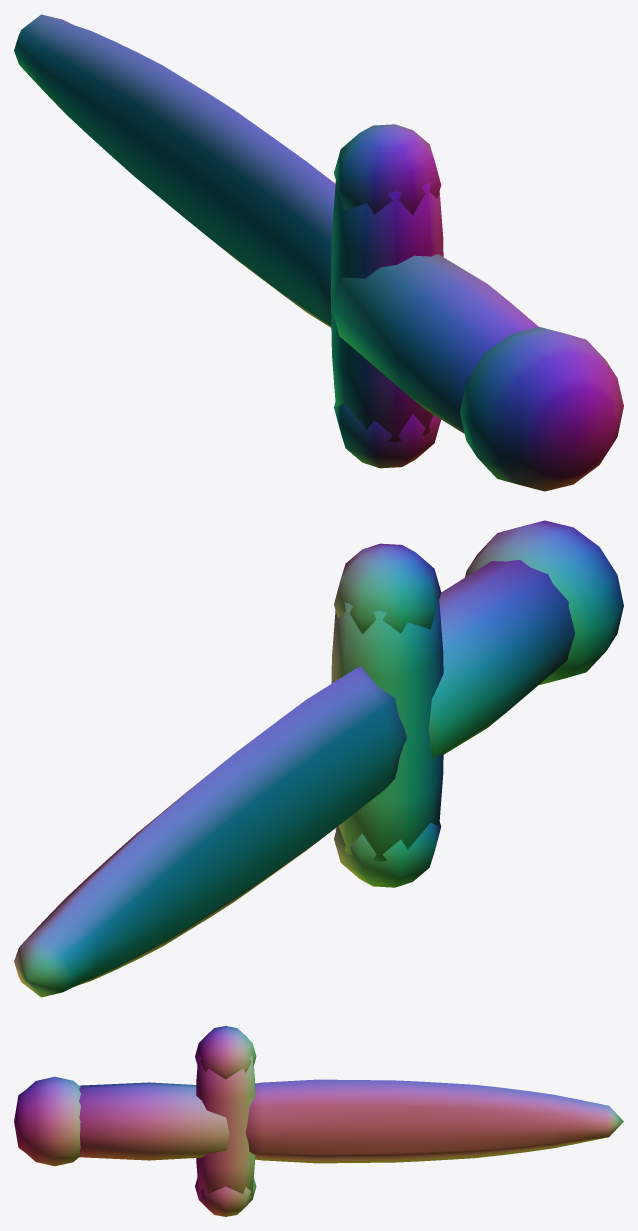
The model's file is SM_Weapon_Dagger.fbx.
3 views of the same model, one above another, from view 1: azimuth 30°, elevation 25°; view 2: azimuth 150°, elevation 25°; view 3: azimuth 270°, elevation 25° (orthographic). The views are drawn at different scales.
Parts seen in each view (by area): view 1: SM_Weapon_Dagger; view 2: SM_Weapon_Dagger; view 3: SM_Weapon_Dagger.
Boxes of the visible parts, x1,y1,x2,y2 form: SM_Weapon_Dagger: (14, 14, 623, 491); SM_Weapon_Dagger: (14, 520, 623, 997); SM_Weapon_Dagger: (14, 1026, 623, 1216).
Size of the model in its own units: 0.073 by 0.163 by 0.4855.
